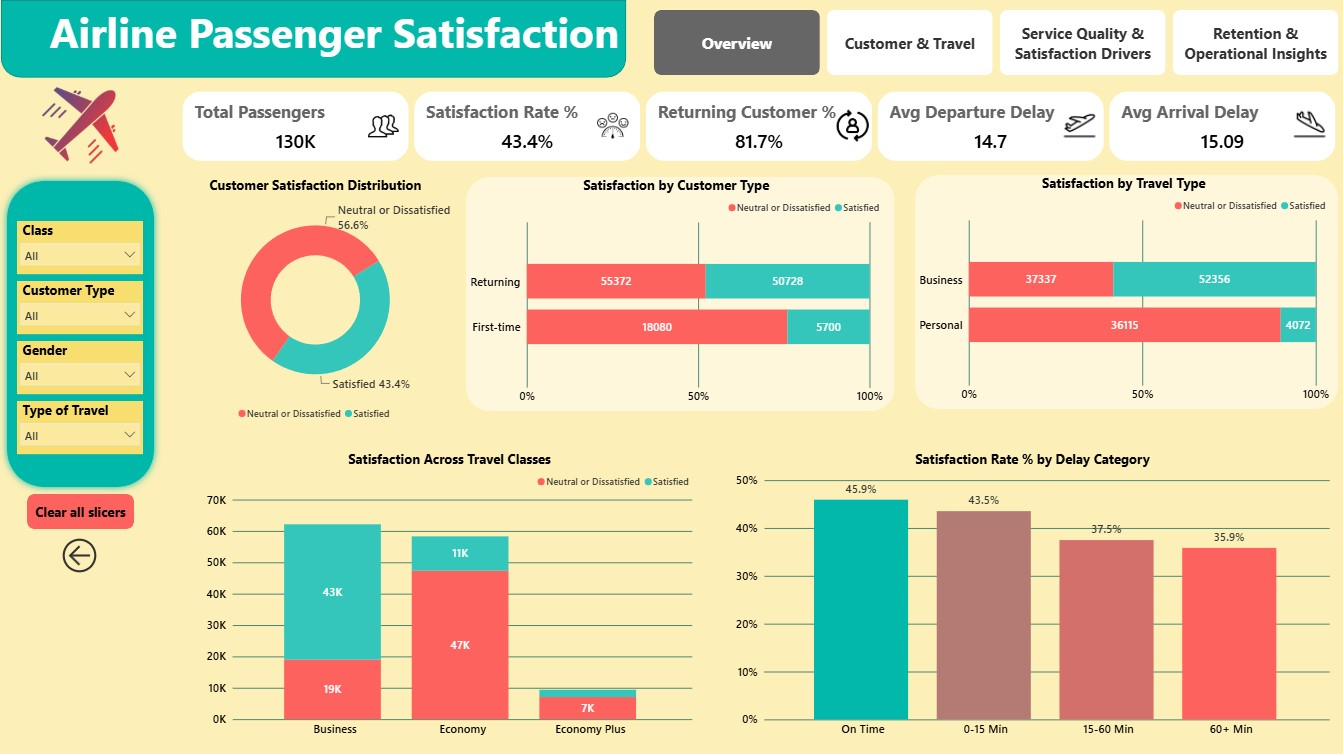

The dashboard page shown, as its layout file describes it:
{"tool":"powerbi","page":{"name":"Overview","canvas":[1920,1080],"ordinal":0},"visuals":[{"type":"shape","box":[1.1,0,893,110.6],"z":0,"group":"g1"},{"type":"cardVisual","fields":{"Data":[" Measures.Total Passengers"," Measures.Satisfaction Rate %"," Measures.Returning Customer %"," Measures.Avg Departure Delay"," Measures.Avg Arrival Delay"]},"box":[255.9,125.9,1657.1,109.1],"z":0},{"type":"shape","box":[0,248.9,230,457.1],"z":0,"group":"g5"},{"type":"shape","box":[1308.3,249.9,604.5,334.5],"z":500,"group":"g4"},{"type":"shape","box":[665.1,252.9,612.4,334.5],"z":500,"group":"g3"},{"type":"textbox","box":[61.6,0,832.4,109.3],"z":1000,"group":"g1"},{"type":"donutChart","title":"Customer Satisfaction Distribution","fields":{"Y":[" Measures.Total Passengers"],"Category":["airline_passenger_satisfaction.Satisfaction"]},"box":[246.3,251.6,409.6,358.2],"z":1000},{"type":"hundredPercentStackedBarChart","title":"Satisfaction by Customer Type","fields":{"Series":["airline_passenger_satisfaction.Satisfaction"],"Category":["airline_passenger_satisfaction.Customer Type"],"Y":[" Measures.Total Passengers"]},"box":[665.1,251.6,600.6,335.9],"z":2000,"group":"g3"},{"type":"columnChart","title":"Satisfaction Across Travel Classes","fields":{"Y":[" Measures.Total Passengers"],"Category":["airline_passenger_satisfaction.Class"],"Series":["airline_passenger_satisfaction.Satisfaction"]},"box":[290,642.9,704.3,420],"z":2000},{"type":"hundredPercentStackedBarChart","title":"Satisfaction by Travel Type","fields":{"Series":["airline_passenger_satisfaction.Satisfaction"],"Y":[" Measures.Total Passengers"],"Category":["airline_passenger_satisfaction.Type of Travel"]},"box":[1307.9,248.9,596.6,335.9],"z":3000,"group":"g4"},{"type":"clusteredColumnChart","fields":{"Category":["airline_passenger_satisfaction.Delay Category"],"Y":[" Measures.Satisfaction Rate %"]},"box":[1045.7,642.9,858.6,420],"z":3000},{"type":"group","id":"g1","title":"Group 1","box":[1.1,0,893,110.6],"z":4000},{"type":"group","id":"g2","title":"Group 3","box":[0,248.9,230.5,575.6],"z":5000},{"type":"pageNavigator","box":[933.8,14.5,978.6,93.5],"z":6000},{"type":"group","id":"g3","title":"Group 4","box":[665.1,251.6,612.4,335.9],"z":7000},{"type":"slicer","fields":{"Values":["airline_passenger_satisfaction.Class"]},"box":[24.8,315.7,180.4,75.5],"z":7000,"group":"g5"},{"type":"actionButton","box":[38.6,706,152.9,50],"z":7000,"group":"g2"},{"type":"group","id":"g4","title":"Group 5","box":[1307.9,248.9,604.5,335.9],"z":8000},{"type":"image","box":[52.9,117.1,124.3,124.3],"z":9000},{"type":"group","id":"g5","title":"Group 2","box":[0,248.9,230,457.1],"z":9000,"group":"g2"},{"type":"slicer","fields":{"Values":["airline_passenger_satisfaction.Customer Type"]},"box":[24.8,401.5,180.4,75.5],"z":9000,"group":"g5"},{"type":"image","box":[518.6,150,58,58.6],"z":10000},{"type":"slicer","fields":{"Values":["airline_passenger_satisfaction.Gender"]},"box":[24.8,487.2,180.4,75.5],"z":10000,"group":"g5"},{"type":"actionButton","box":[82.9,763.2,64.3,61.4],"z":10000,"group":"g2"},{"type":"image","box":[845.7,150,58.6,58.6],"z":11000},{"type":"slicer","fields":{"Values":["airline_passenger_satisfaction.Type of Travel"]},"box":[24.8,573,180.4,75.5],"z":11000,"group":"g5"},{"type":"image","box":[1188.6,150,58.6,58.6],"z":12000},{"type":"image","box":[1512.9,150,58.6,58.6],"z":13000},{"type":"image","box":[1841.4,150,58.6,58.6],"z":14000}]}

Visuals, with their boxes in screenshot pixels (x1, y1, x2, y2), scaled from the page's 1920x1080 canvas onto the 1343x754 screenshot:
shape: <bbox>1, 0, 625, 77</bbox>
cardVisual -  Measures.Total Passengers x  Measures.Satisfaction Rate %: <bbox>179, 88, 1338, 164</bbox>
shape: <bbox>0, 174, 161, 493</bbox>
shape: <bbox>915, 174, 1338, 408</bbox>
shape: <bbox>465, 177, 894, 410</bbox>
textbox: <bbox>43, 0, 625, 76</bbox>
"Customer Satisfaction Distribution" donutChart: <bbox>172, 176, 459, 426</bbox>
"Satisfaction by Customer Type" hundredPercentStackedBarChart: <bbox>465, 176, 885, 410</bbox>
"Satisfaction Across Travel Classes" columnChart: <bbox>203, 449, 695, 742</bbox>
"Satisfaction by Travel Type" hundredPercentStackedBarChart: <bbox>915, 174, 1332, 408</bbox>
clusteredColumnChart - airline_passenger_satisfaction.Delay Category x  Measures.Satisfaction Rate %: <bbox>731, 449, 1332, 742</bbox>
"Group 1" group: <bbox>1, 0, 625, 77</bbox>
"Group 3" group: <bbox>0, 174, 161, 576</bbox>
pageNavigator: <bbox>653, 10, 1338, 75</bbox>
"Group 4" group: <bbox>465, 176, 894, 410</bbox>
slicer - airline_passenger_satisfaction.Class: <bbox>17, 220, 144, 273</bbox>
actionButton: <bbox>27, 493, 134, 528</bbox>
"Group 5" group: <bbox>915, 174, 1338, 408</bbox>
image: <bbox>37, 82, 124, 169</bbox>
"Group 2" group: <bbox>0, 174, 161, 493</bbox>
slicer - airline_passenger_satisfaction.Customer Type: <bbox>17, 280, 144, 333</bbox>
image: <bbox>363, 105, 403, 146</bbox>
slicer - airline_passenger_satisfaction.Gender: <bbox>17, 340, 144, 393</bbox>
actionButton: <bbox>58, 533, 103, 576</bbox>
image: <bbox>592, 105, 633, 146</bbox>
slicer - airline_passenger_satisfaction.Type of Travel: <bbox>17, 400, 144, 453</bbox>
image: <bbox>831, 105, 872, 146</bbox>
image: <bbox>1058, 105, 1099, 146</bbox>
image: <bbox>1288, 105, 1329, 146</bbox>
